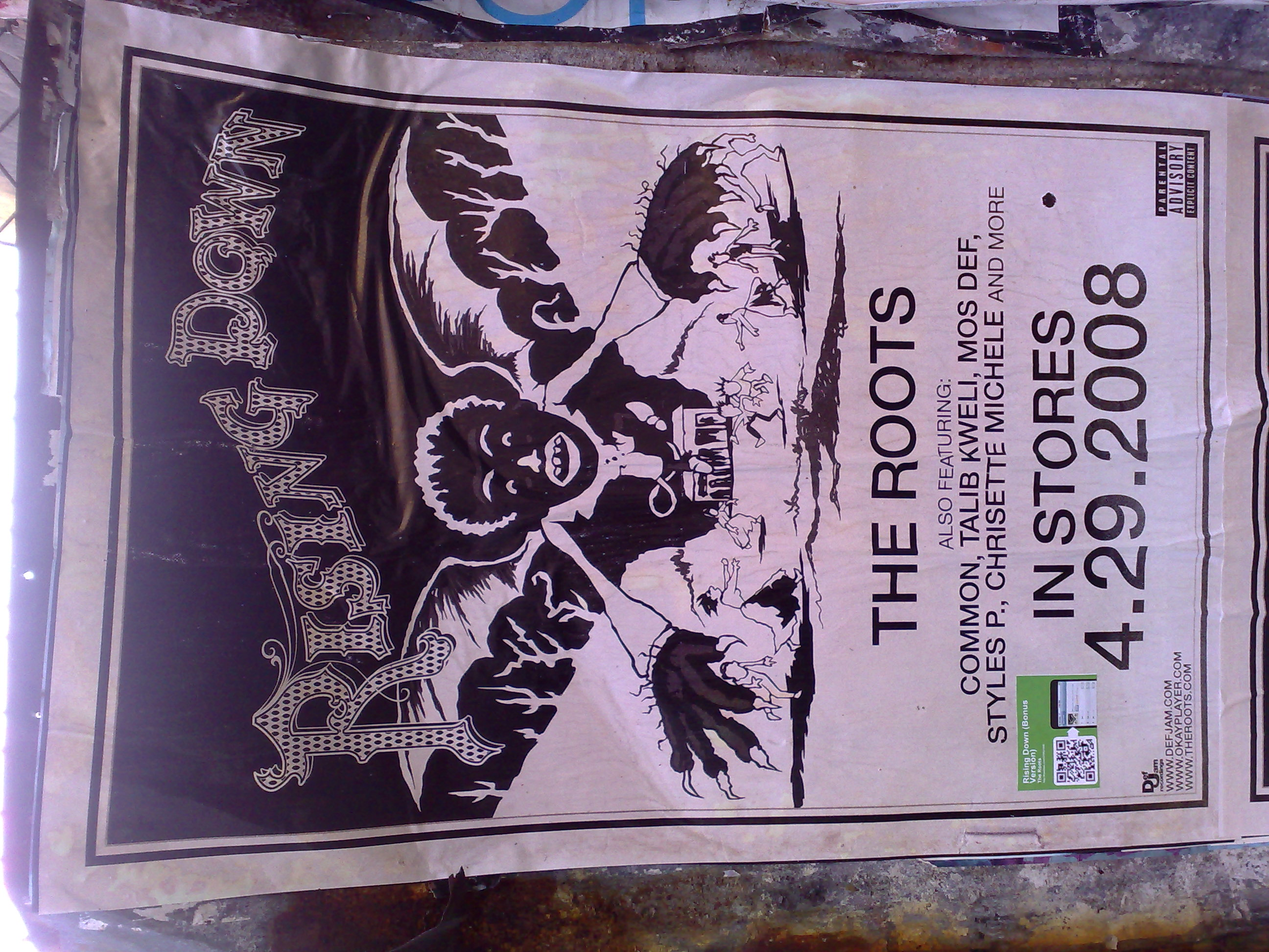QR-CODE: (1056, 739, 1095, 782)
